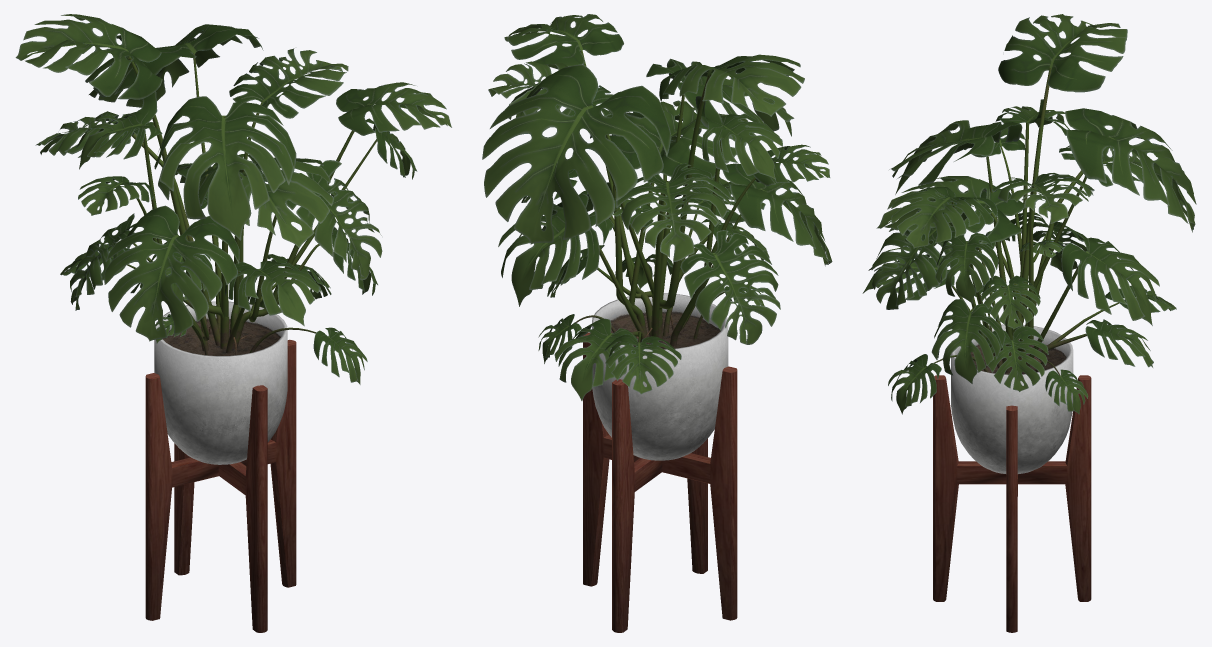
Rendered from monstera.glb.
3 renders of one model, left to right at view 1: azimuth 30°, elevation 25°; view 2: azimuth 150°, elevation 25°; view 3: azimuth 270°, elevation 25°, orthographic. The views are drawn at different scales.
Parts seen in each view (by area): view 1: Leaves, Stand, Pot_LP, root_HP_1_Mat.2_0; view 2: Leaves, Stand, Pot_LP, root_HP_1_Mat.2_0; view 3: Leaves, Stand, Pot_LP, root_HP_1_Mat.2_0.
Part boxes in pixels (bbox=[...]): Leaves: bbox=[15, 14, 451, 384]; Stand: bbox=[145, 339, 296, 632]; Pot_LP: bbox=[154, 301, 287, 464]; root_HP_1_Mat.2_0: bbox=[124, 53, 376, 355]; Leaves: bbox=[482, 14, 832, 400]; Stand: bbox=[583, 332, 737, 632]; Pot_LP: bbox=[592, 293, 728, 460]; root_HP_1_Mat.2_0: bbox=[559, 50, 755, 346]; Leaves: bbox=[862, 14, 1196, 414]; Stand: bbox=[933, 375, 1091, 632]; Pot_LP: bbox=[951, 324, 1073, 473]; root_HP_1_Mat.2_0: bbox=[933, 68, 1124, 375].
Size of the model in its own units: 0.8 by 1.25 by 0.7278.
3 materials, 3 textured.
